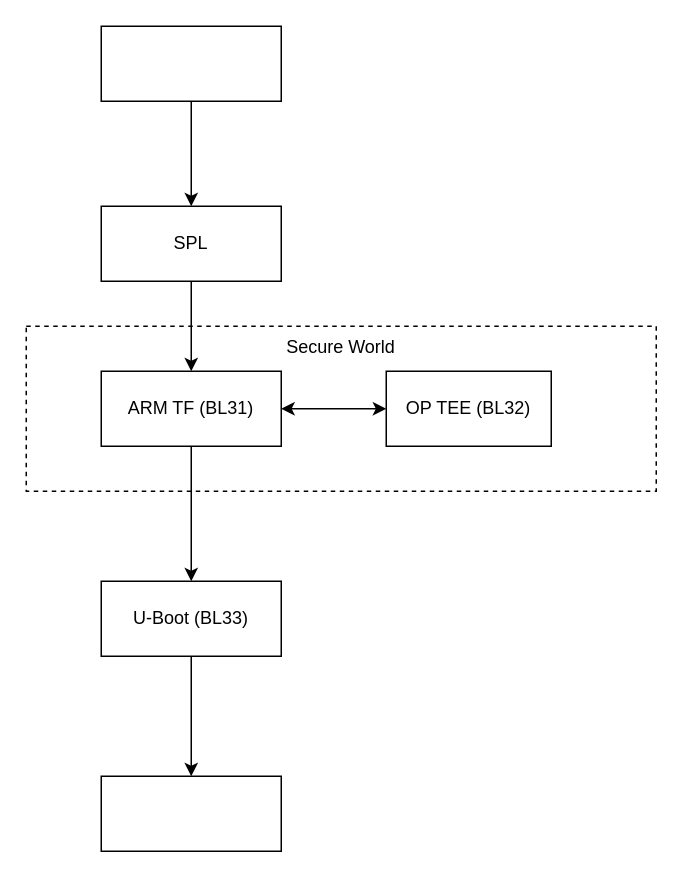
Image size: 683x878. Some labels were removed from this diagram. The centre of each missing label's shape, as x and y in pixels:
BootROM (BL1): point (190, 63)
Rich OS ( e.g. Linux): point (190, 813)
